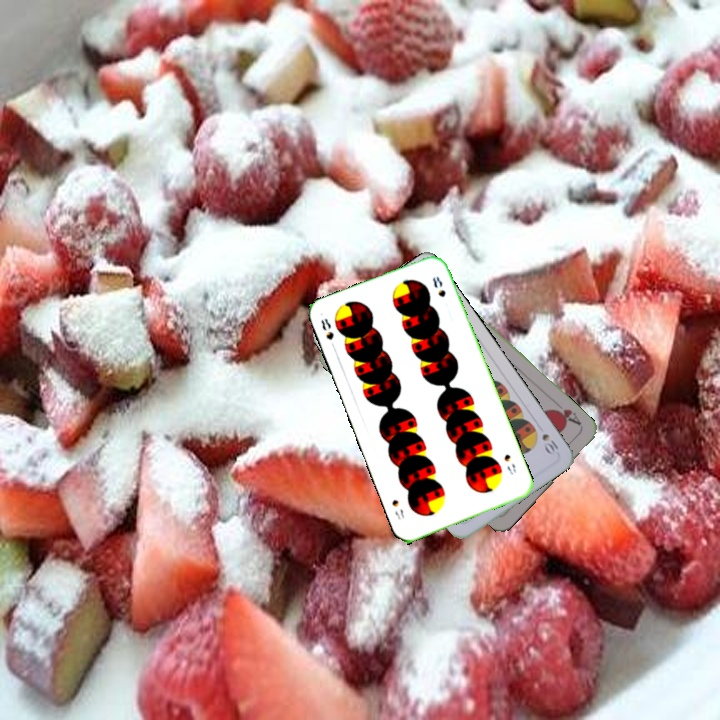HA: (548, 398, 584, 430)
S10: (538, 429, 562, 458)
S8: (317, 314, 338, 352), (500, 450, 519, 478)
